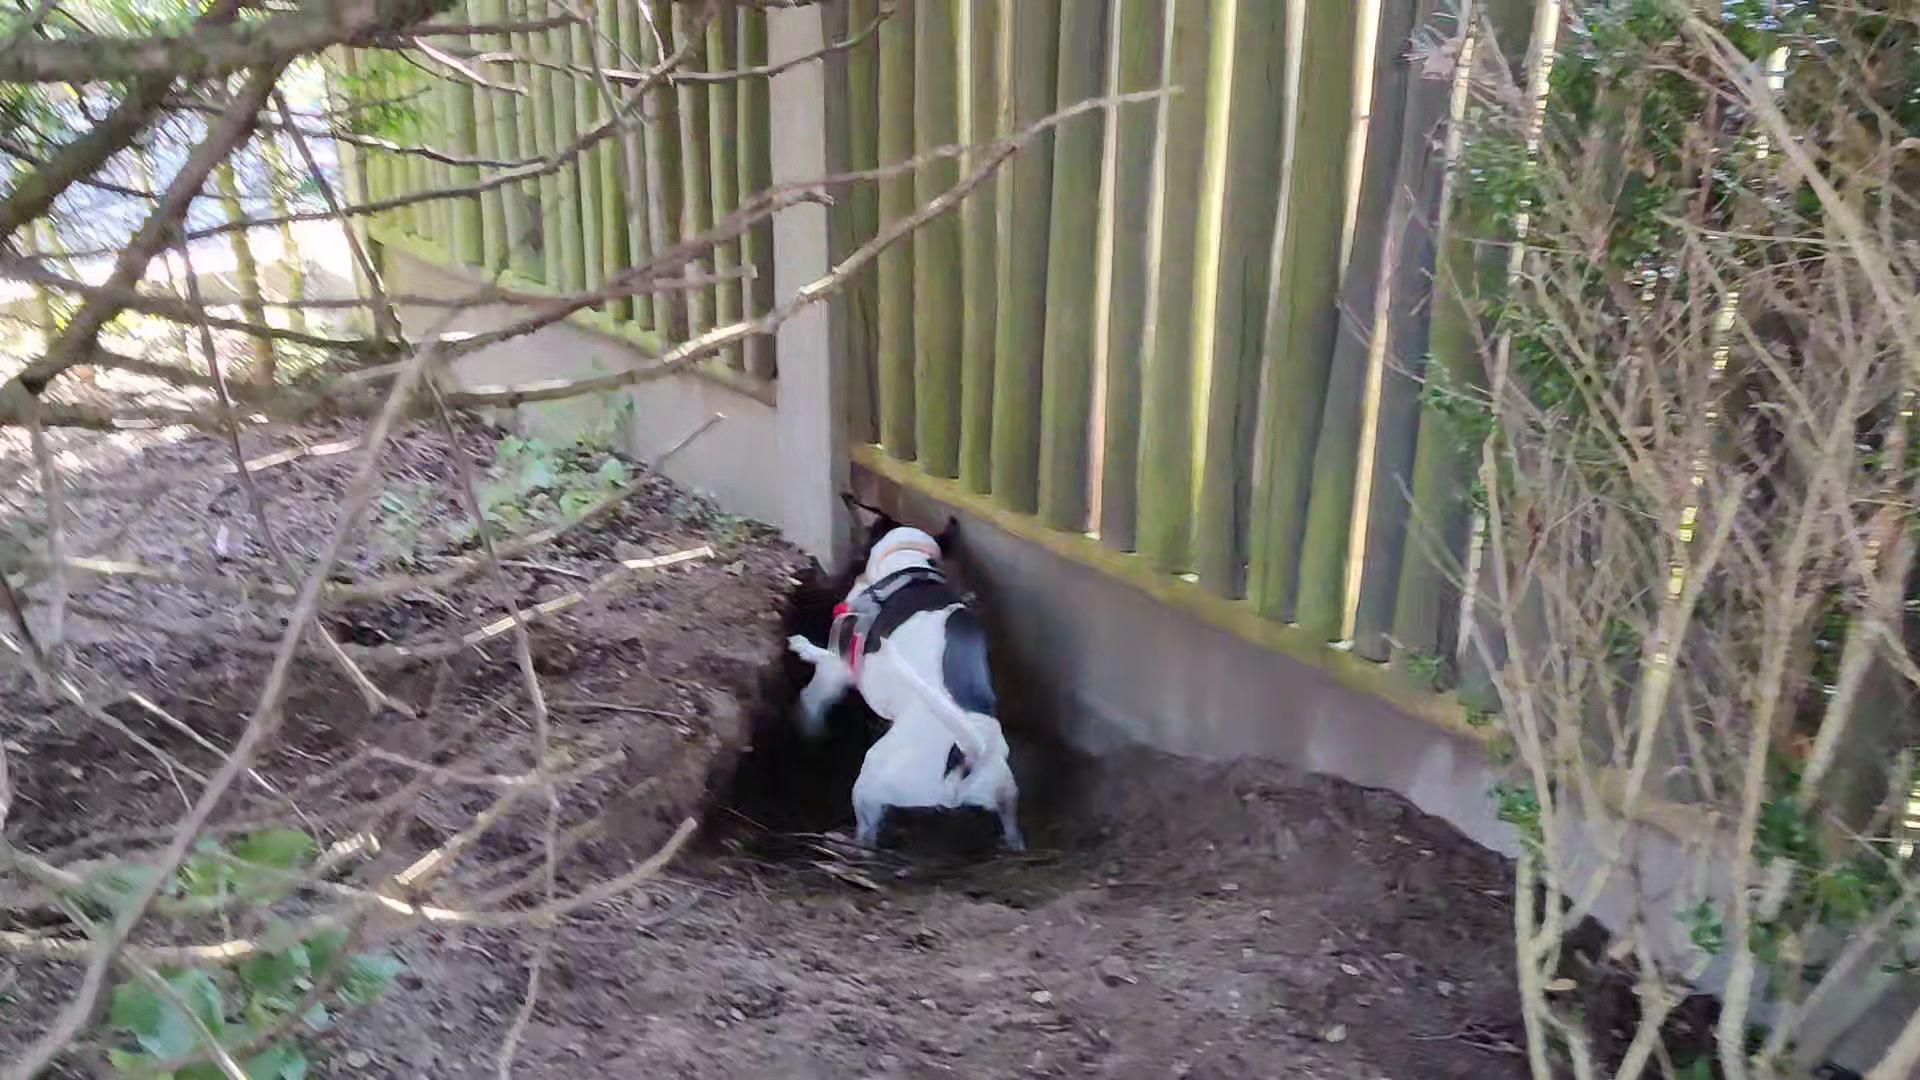Dog: (775, 483, 1047, 868)
